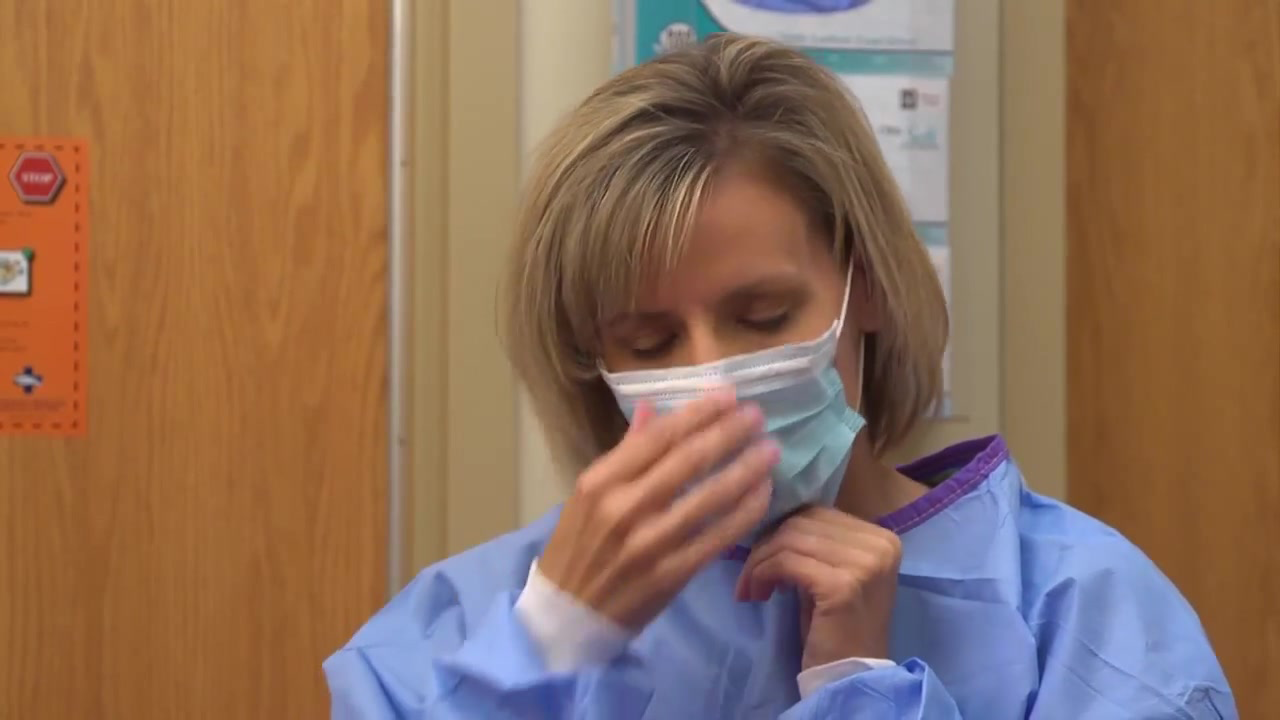Coverall: (367, 498, 1209, 720)
with_mask: (579, 346, 878, 527)
